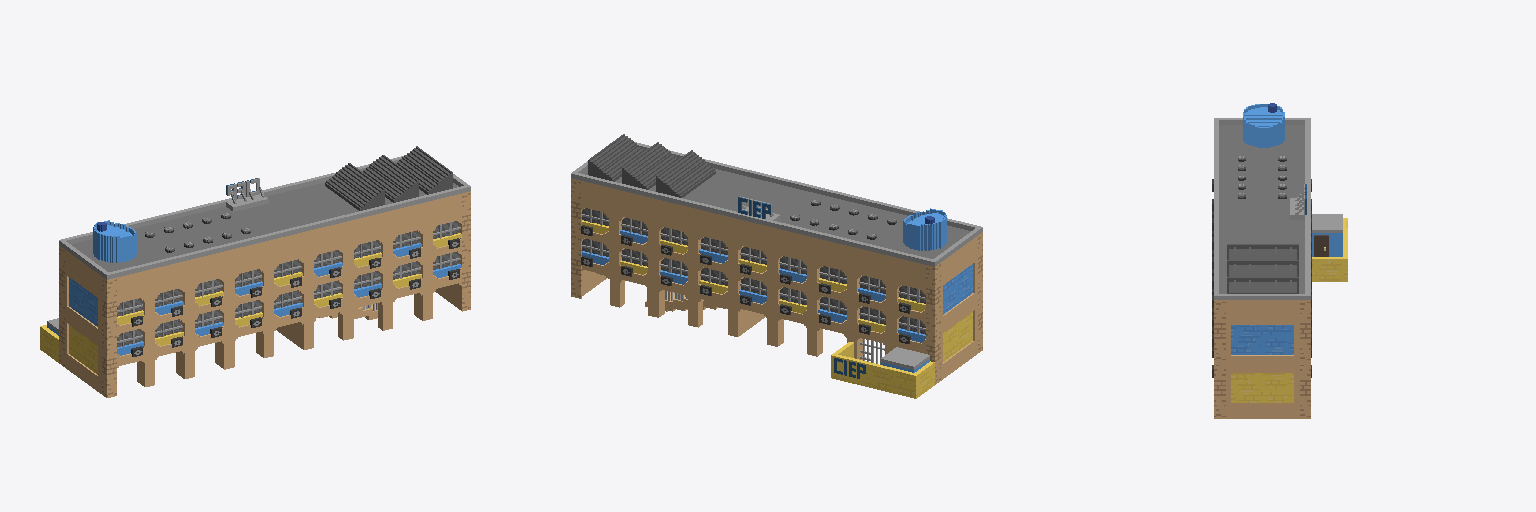
3 views of the same model, side by side, from view 1: azimuth 30°, elevation 25°; view 2: azimuth 150°, elevation 25°; view 3: azimuth 270°, elevation 25° (orthographic).
Parts seen in each view (by area): view 1: object 1; view 2: object 1; view 3: object 1.
Part boxes in pixels (bbox=[...]): object 1: bbox=[40, 146, 470, 397]; object 1: bbox=[571, 134, 982, 398]; object 1: bbox=[1212, 103, 1347, 418].
Size of the model in its own units: 24.8 by 9.6 by 8.
1 materials, 1 textured.